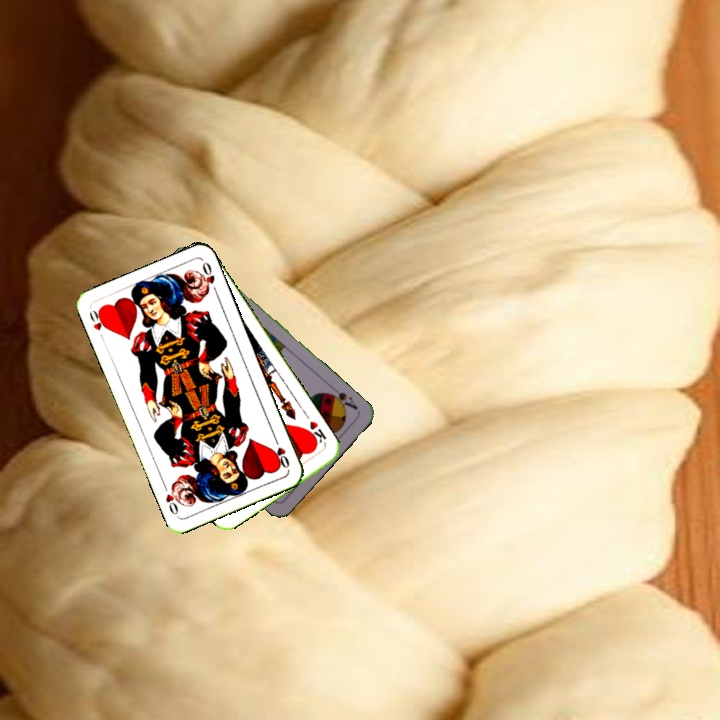HK: (301, 417, 329, 448)
HO: (85, 305, 110, 344), (270, 433, 292, 471)
SA: (323, 382, 361, 412)
